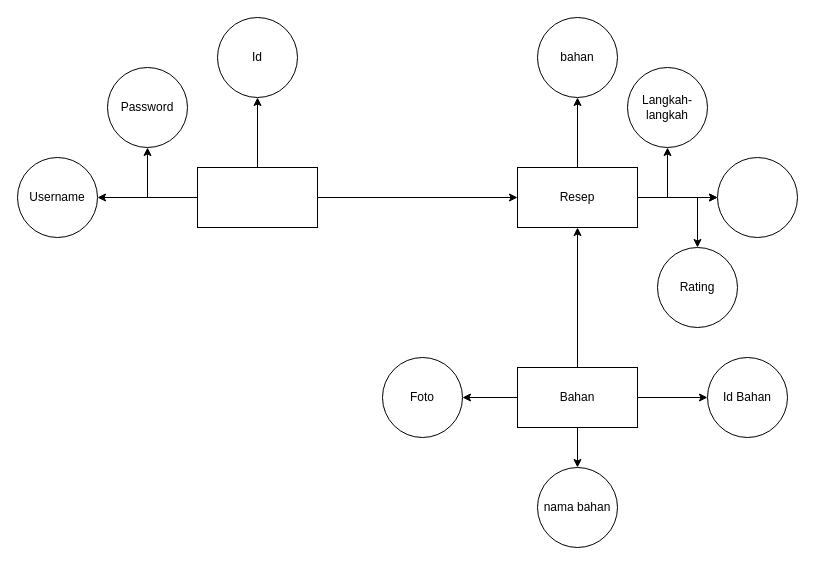
The diagram is 815 pixels wide and 565 high, and some of its shapes have lost their labels. Each missing label, with the centre of its shape:
"nama resep" belongs at (757,197).
"User" belongs at (257,197).
